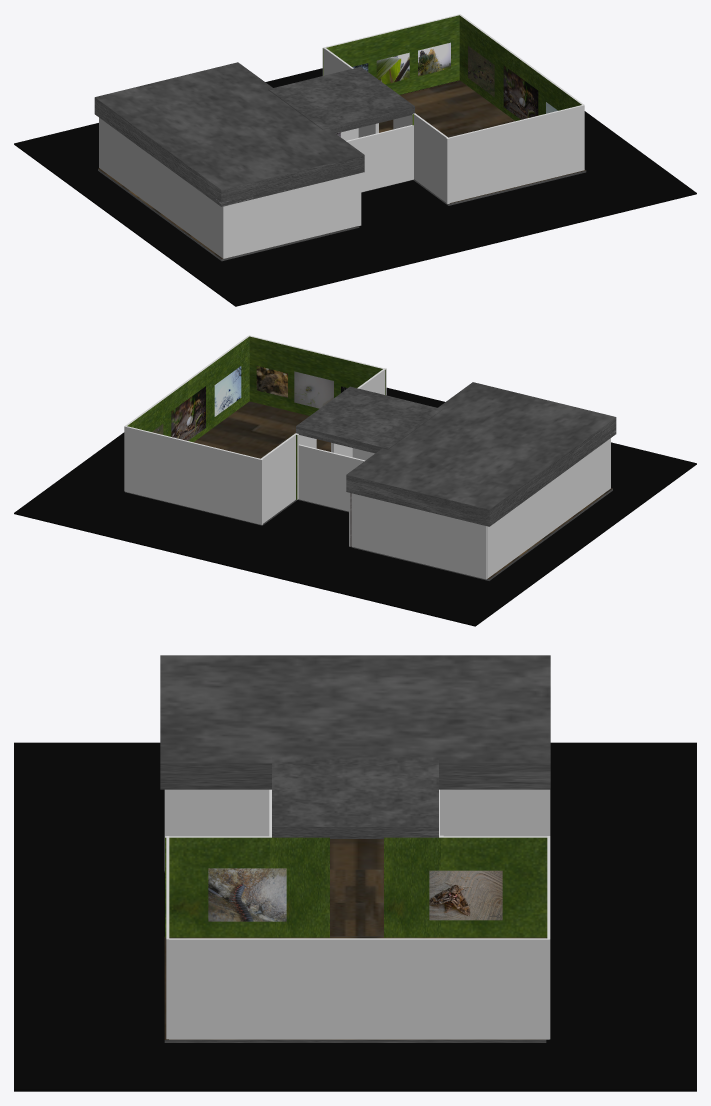
Rendered from Vida-Muerte_New.glb.
3 renders of one model, top to bottom at view 1: azimuth 30°, elevation 25°; view 2: azimuth 150°, elevation 25°; view 3: azimuth 270°, elevation 25°, orthographic. The views are drawn at different scales.
Visible parts, largest first — view 1: Terreno, Techo.002, Cube.004, Cube.011, Techo.001, Piso.001, Cube.003, Cube.015, Cube.016, Cube.009, Cube.002, Cube.006 (+5 smaller); view 2: Terreno, Techo.002, Cube.003, Cube.012, Techo.001, Piso.001, Cube.004, Cube.016, Cube.015, Cube.001, Cube.007, Cube.005 (+5 smaller); view 3: Terreno, Techo.002, Cube.002, Cube.007, Techo.001, Cube.005, Piso.001, Cube.006, Cube.010, Cube.008, Cube.014, Cube.013 (+3 smaller).
Part boxes in pixels (x1,y1,x2,y2): Terreno: [14, 68, 696, 306]; Techo.002: [94, 62, 364, 206]; Cube.004: [446, 105, 584, 203]; Cube.011: [223, 173, 361, 258]; Techo.001: [268, 66, 414, 133]; Piso.001: [98, 80, 586, 261]; Cube.003: [322, 14, 460, 94]; Cube.015: [161, 163, 223, 258]; Cube.016: [99, 118, 161, 212]; Cube.009: [346, 125, 413, 192]; Cube.002: [459, 14, 521, 120]; Cube.006: [414, 113, 449, 203]; Terreno: [14, 387, 696, 626]; Techo.002: [346, 382, 616, 526]; Cube.003: [124, 426, 262, 524]; Cube.012: [351, 493, 487, 579]; Techo.001: [296, 386, 442, 453]; Piso.001: [125, 401, 612, 580]; Cube.004: [248, 335, 386, 415]; Cube.016: [487, 483, 549, 578]; Cube.015: [549, 438, 610, 533]; Cube.001: [298, 444, 365, 511]; Cube.007: [186, 336, 249, 442]; Cube.005: [261, 433, 296, 523]; Terreno: [14, 742, 696, 1091]; Techo.002: [160, 655, 550, 789]; Cube.002: [359, 938, 549, 1039]; Cube.007: [169, 938, 359, 1039]; Techo.001: [272, 757, 438, 838]; Cube.005: [441, 836, 547, 937]; Piso.001: [164, 839, 546, 1042]; Cube.006: [165, 836, 271, 937]; Cube.010: [270, 835, 329, 937]; Cube.008: [384, 835, 443, 937]; Cube.014: [443, 789, 550, 836]; Cube.013: [168, 789, 269, 836].
Bounding box in the file's own units: 41.95 × 6.69 × 34.89.
33 materials, 31 textured.
